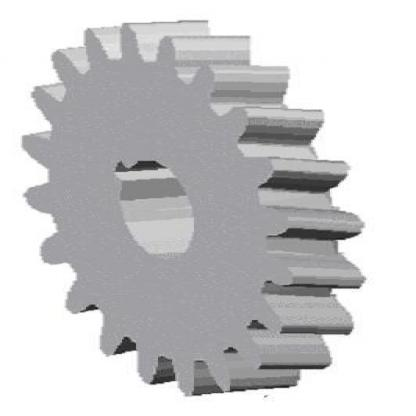FOD: (5, 14, 370, 400)
